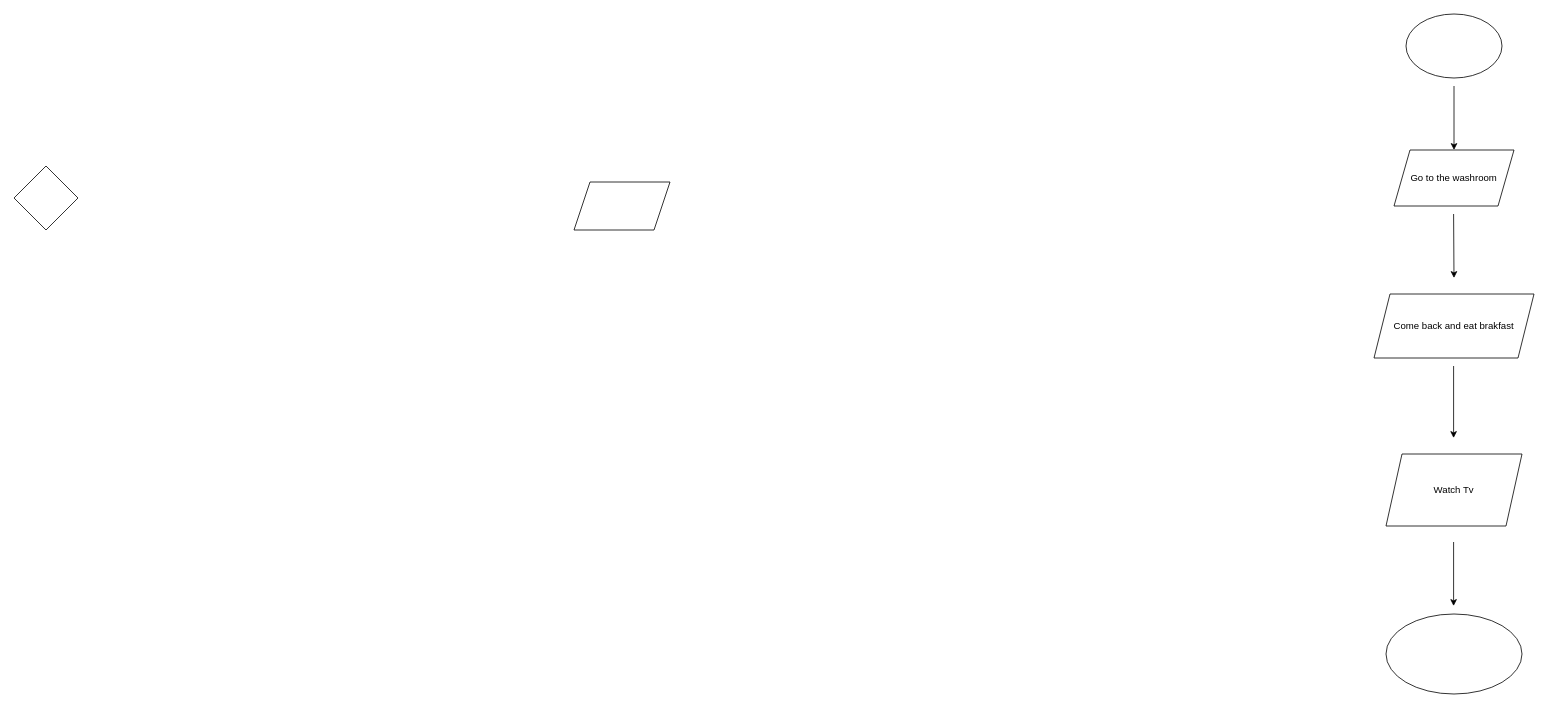
This 1548x708 diagram has some shape labels left out. The shapes that lost their labels are listed below. From the top down, each one's box as (x1, y1, x2, y2) in pixels, then its label:
(1405, 13, 1502, 78): Wake up in the morning
(1385, 613, 1522, 694): Go to my neighbours house
